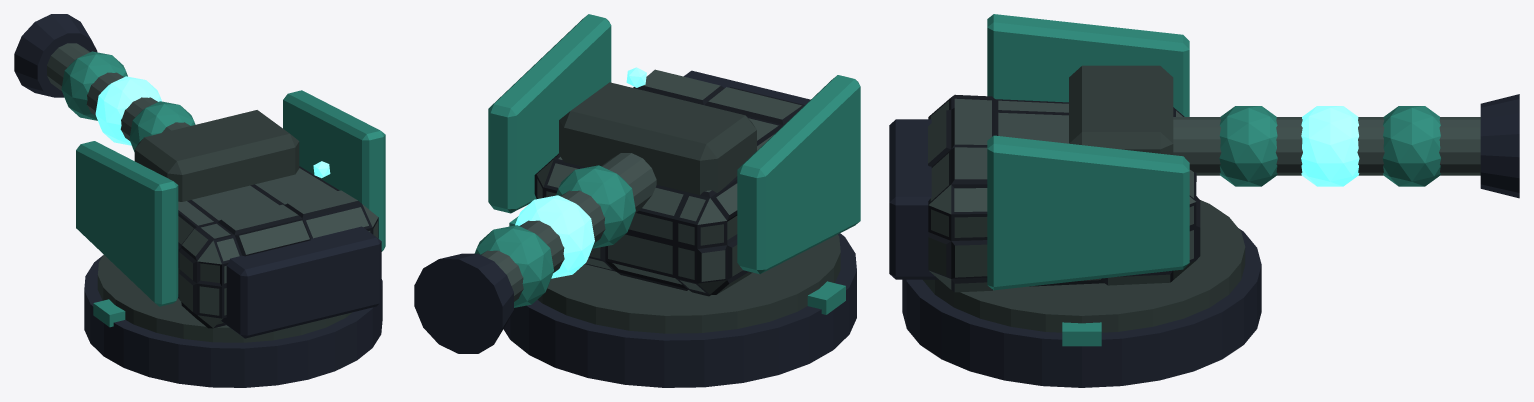
The model's file is turret_plasma_projectors.glb.
3 renders of one model, left to right at view 1: azimuth 30°, elevation 25°; view 2: azimuth 150°, elevation 25°; view 3: azimuth 270°, elevation 25°, orthographic. The views are drawn at different scales.
Parts seen in each view (by area): view 1: Yaw_mesh, Pitch_mesh, Base_mesh; view 2: Yaw_mesh, Pitch_mesh, Base_mesh; view 3: Yaw_mesh, Base_mesh, Pitch_mesh.
Boxes of the visible parts, x1,y1,x2,y2 form: Yaw_mesh: [76, 90, 385, 338]; Pitch_mesh: [14, 14, 299, 201]; Base_mesh: [84, 255, 382, 387]; Yaw_mesh: [488, 14, 860, 296]; Pitch_mesh: [414, 82, 756, 353]; Base_mesh: [503, 216, 856, 387]; Yaw_mesh: [889, 14, 1200, 292]; Base_mesh: [902, 200, 1261, 387]; Pitch_mesh: [1069, 65, 1519, 198].
Size of the model in its own units: 1.12 by 0.7876 by 1.93.
